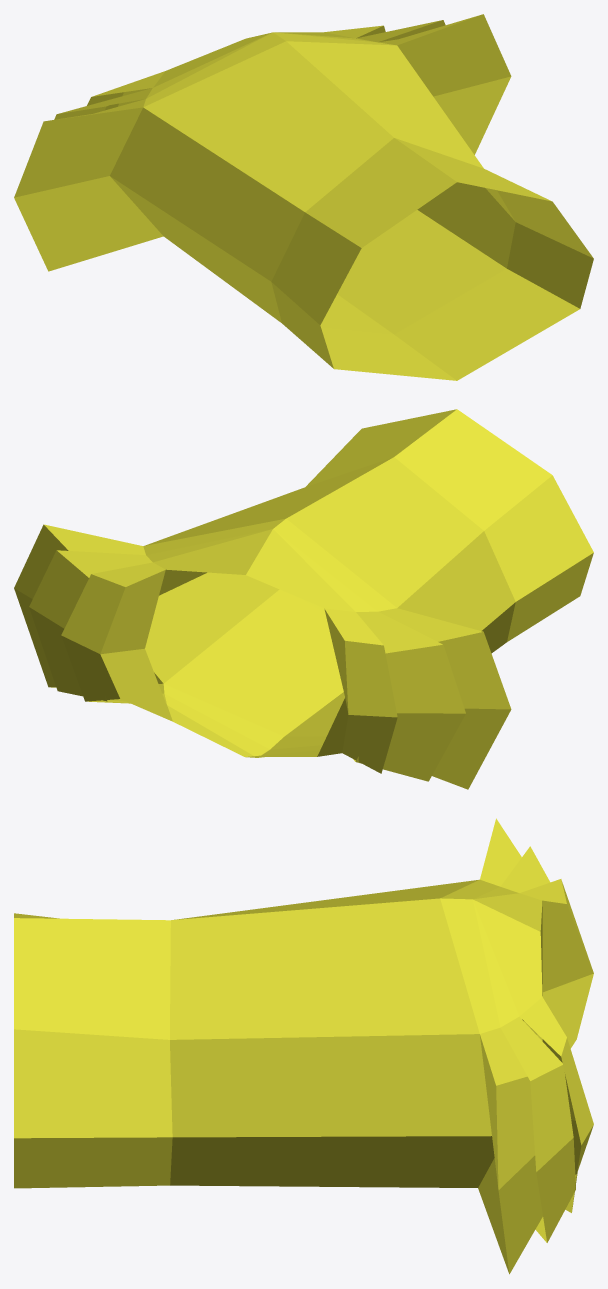
Rendered from golden_armor.glb.
The picture shows the model from 3 angles, top to bottom: view 1: azimuth 30°, elevation 25°; view 2: azimuth 150°, elevation 25°; view 3: azimuth 270°, elevation 25°; orthographic projection. The views are drawn at different scales.
Parts seen in each view (by area): view 1: Armor_Chest; view 2: Armor_Chest; view 3: Armor_Chest.
Part boxes in pixels (x1,y1,x2,y2): Armor_Chest: [14, 14, 593, 380]; Armor_Chest: [14, 409, 593, 789]; Armor_Chest: [14, 818, 593, 1274].
Bounding box in the file's own units: 1.9 × 0.8 × 1.54.
